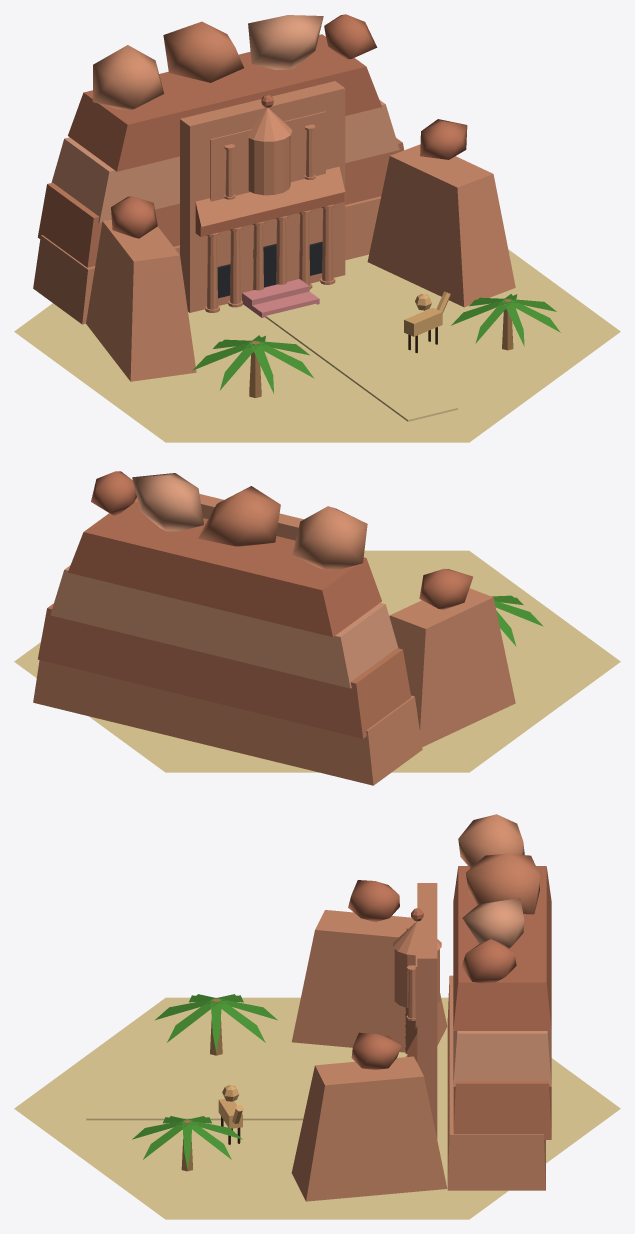
File: wonder_petra.fbx
3 views of the same model, one above another, from view 1: azimuth 30°, elevation 25°; view 2: azimuth 150°, elevation 25°; view 3: azimuth 270°, elevation 25° (orthographic).
Visible parts, largest first — view 1: wonder_petra; view 2: wonder_petra; view 3: wonder_petra.
Part boxes in pixels (<box>): wonder_petra: <box>14,14,620,442</box>; wonder_petra: <box>14,471,620,785</box>; wonder_petra: <box>14,814,620,1219</box>.
Bounding box in the file's own units: 182 × 93.77 × 210.
